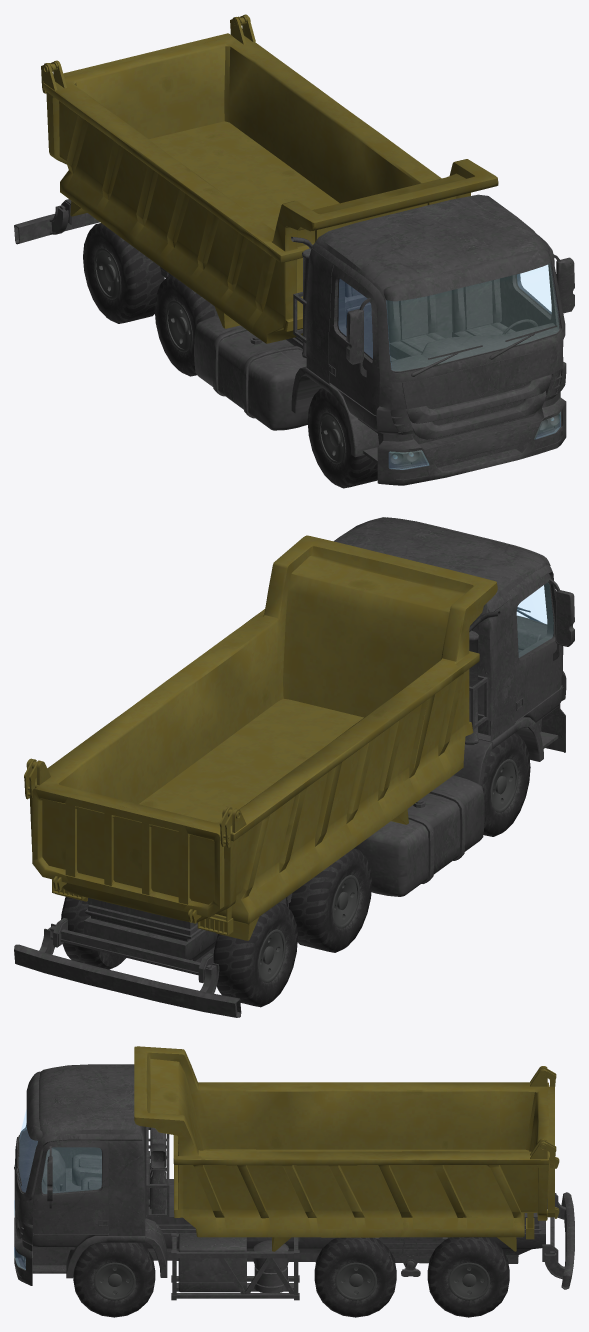
Rendered from dump_truck.glb.
3 renders of one model, top to bottom at view 1: azimuth 30°, elevation 25°; view 2: azimuth 150°, elevation 25°; view 3: azimuth 270°, elevation 25°, orthographic. The views are drawn at different scales.
Parts seen in each view (by area): view 1: dump_truck_01; view 2: dump_truck_01; view 3: dump_truck_01.
Part boxes in pixels (box(x1,y1,x2,y2)): dump_truck_01: box(14, 14, 574, 488); dump_truck_01: box(14, 517, 574, 1017); dump_truck_01: box(14, 1046, 574, 1317).
Size of the model in its own units: 8.7 by 9.2 by 23.26.
Materials: 6 (5 with a texture image).
